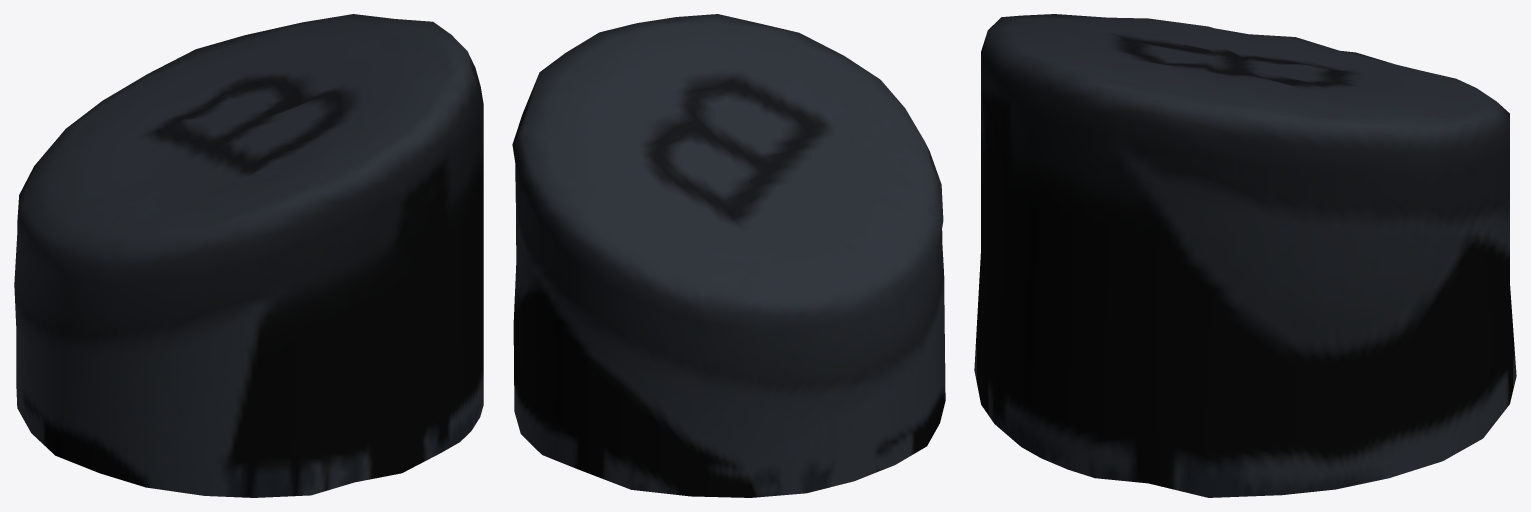
The model's file is right_b_button.obj.
The picture shows the model from 3 angles, left to right: view 1: azimuth 30°, elevation 25°; view 2: azimuth 150°, elevation 25°; view 3: azimuth 270°, elevation 25°; orthographic projection. The views are drawn at different scales.
Parts seen in each view (by area): view 1: right_b_button; view 2: right_b_button; view 3: right_b_button.
Boxes of the visible parts, x1,y1,x2,y2 form: right_b_button: (14,14,483,497); right_b_button: (512,14,945,497); right_b_button: (974,14,1516,497).
Size of the model in its own units: 0.0081 by 0.0063 by 0.0081.
1 material, 1 textured.
